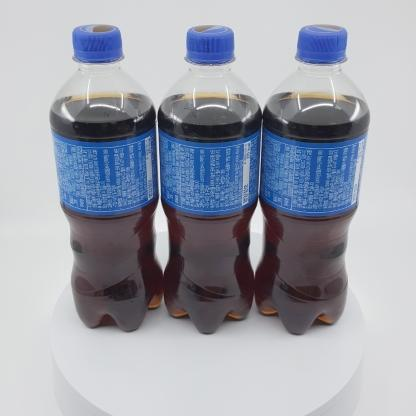------600ML: (254, 24, 370, 334), (49, 24, 164, 331), (157, 25, 262, 333)
